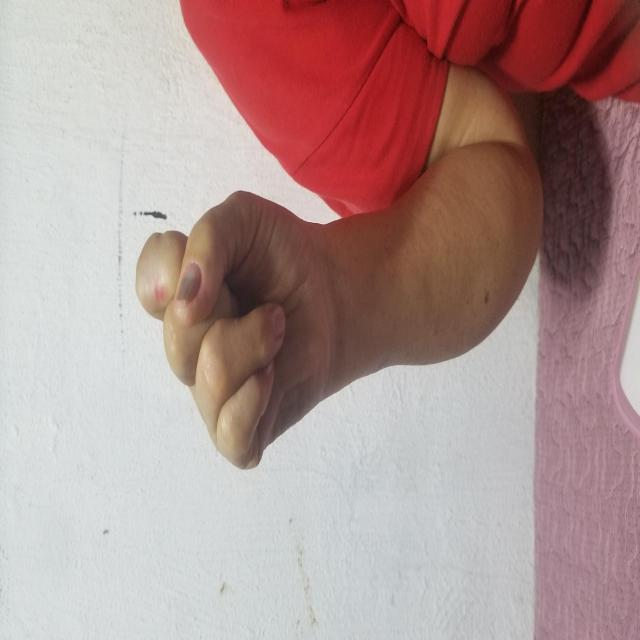S: (168, 132, 452, 334)
